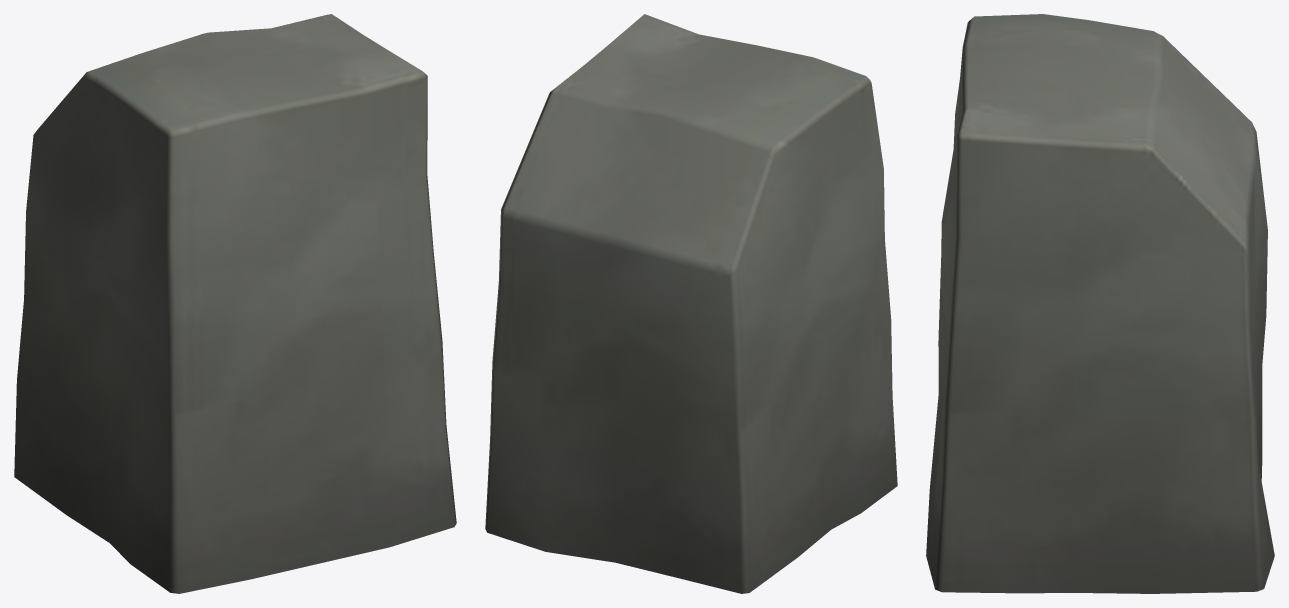
Rendered from MSH_Building_011.glb.
The picture shows the model from 3 angles, left to right: view 1: azimuth 30°, elevation 25°; view 2: azimuth 150°, elevation 25°; view 3: azimuth 270°, elevation 25°; orthographic projection. The views are drawn at different scales.
Visible parts, largest first — view 1: Base.009; view 2: Base.009; view 3: Base.009.
Boxes of the visible parts, x1=… form: Base.009: x1=14, y1=14, x2=456, y2=593; Base.009: x1=485, y1=14, x2=897, y2=593; Base.009: x1=926, y1=14, x2=1274, y2=593.
Bounding box in the file's own units: 5.32 × 7.94 × 5.55.
1 material, 1 textured.
